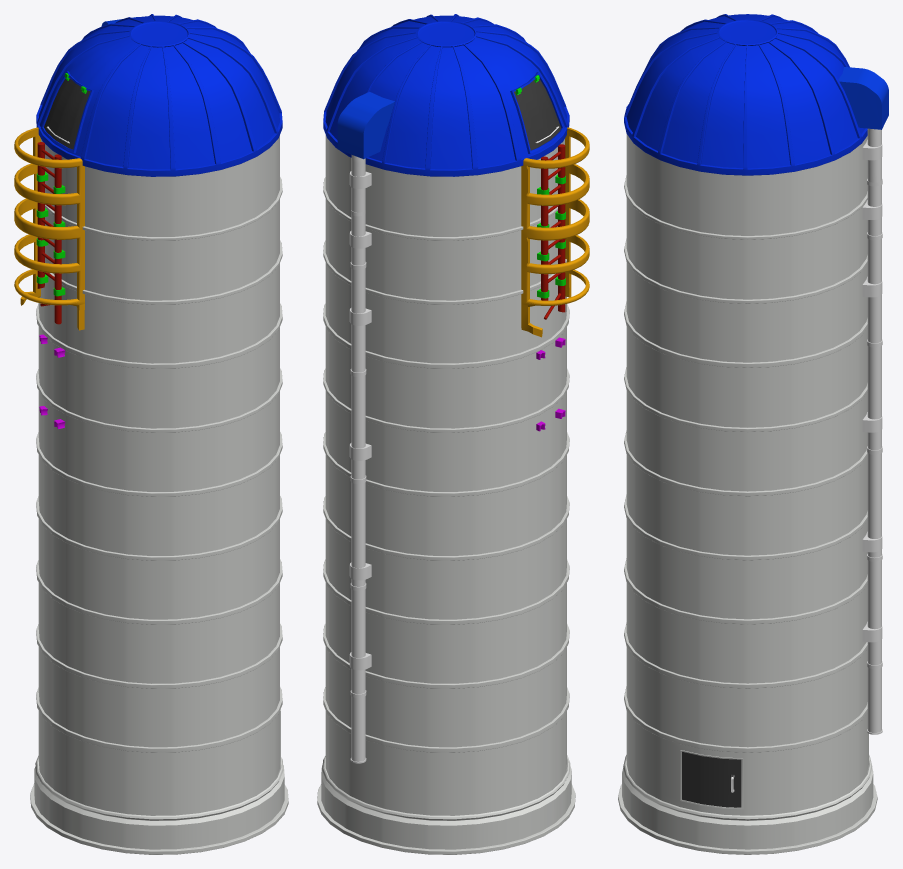
The model's file is silowiekszy.fbx.
The picture shows the model from 3 angles, left to right: view 1: azimuth 30°, elevation 25°; view 2: azimuth 150°, elevation 25°; view 3: azimuth 270°, elevation 25°; orthographic projection.
Visible parts, largest first — view 1: Cylinder, Cylinder.003, Cylinder.001, Cylinder.004; view 2: Cylinder, Cylinder.002, Cylinder.003, Cube, Cylinder.001, Cylinder.004; view 3: Cylinder, Cylinder.002, Cylinder.005, Cube.
Boxes of the visible parts, x1,y1,x2,y2 form: Cylinder: (30, 14, 288, 854); Cylinder.003: (14, 127, 84, 330); Cylinder.001: (44, 79, 90, 149); Cylinder.004: (37, 142, 61, 324); Cylinder: (317, 14, 575, 854); Cylinder.002: (350, 155, 366, 763); Cylinder.003: (521, 127, 589, 337); Cube: (337, 92, 394, 159); Cylinder.001: (514, 79, 561, 150); Cylinder.004: (541, 144, 565, 319); Cylinder: (618, 14, 877, 854); Cylinder.002: (867, 128, 882, 734); Cylinder.005: (682, 752, 741, 807); Cube: (838, 67, 888, 129).
Size of the model in its own units: 95.91 by 281 by 89.72.
